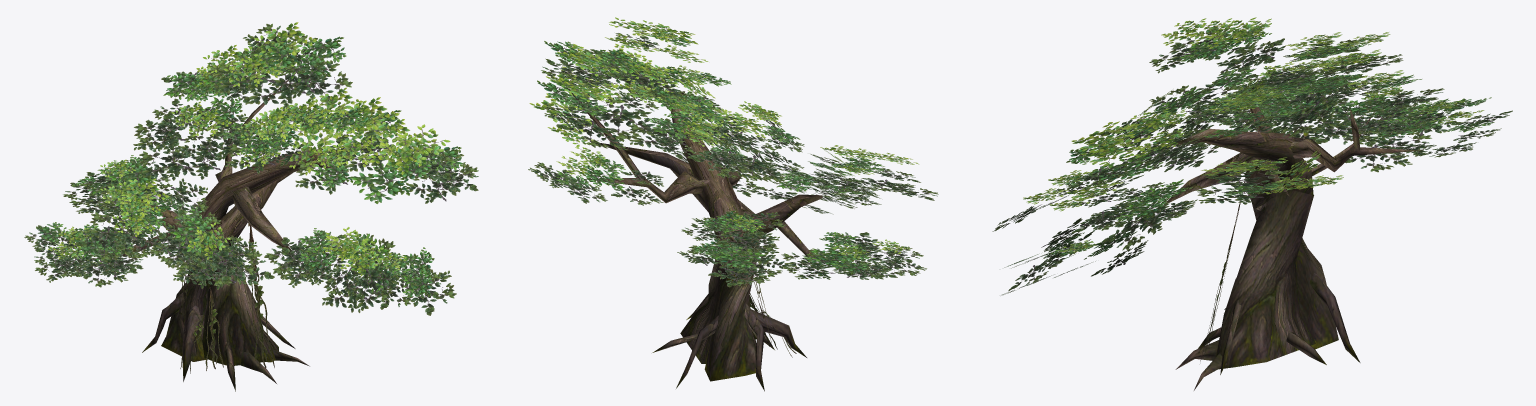
The model's file is JJS_QY_DaShu.FBX.
3 renders of one model, left to right at view 1: azimuth 30°, elevation 25°; view 2: azimuth 150°, elevation 25°; view 3: azimuth 270°, elevation 25°, orthographic. The views are drawn at different scales.
Parts seen in each view (by area): view 1: JJS_QY_ShuYe, JJS_QY_ShuGan01, JJS_QY_ShuGan02; view 2: JJS_QY_ShuYe, JJS_QY_ShuGan01, JJS_QY_ShuGan02; view 3: JJS_QY_ShuYe, JJS_QY_ShuGan01, JJS_QY_ShuGan02.
Part boxes in pixels (box(x1,y1,x2,y2)): JJS_QY_ShuYe: box(24, 22, 478, 315); JJS_QY_ShuGan01: box(142, 222, 309, 391); JJS_QY_ShuGan02: box(111, 72, 335, 257); JJS_QY_ShuYe: box(528, 17, 938, 287); JJS_QY_ShuGan01: box(652, 215, 806, 391); JJS_QY_ShuGan02: box(567, 88, 824, 266); JJS_QY_ShuYe: box(992, 17, 1512, 295); JJS_QY_ShuGan01: box(1175, 174, 1360, 390); JJS_QY_ShuGan02: box(1164, 105, 1420, 208).
Size of the model in its own units: 2389 by 1675 by 2176.
